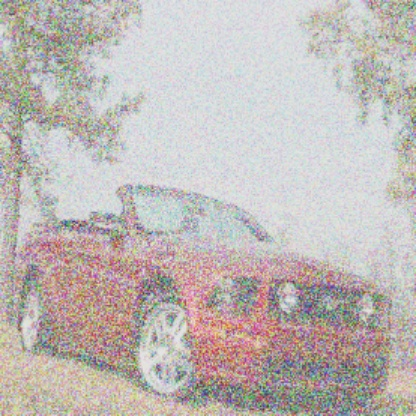Vehicle: (11, 182, 402, 410)
